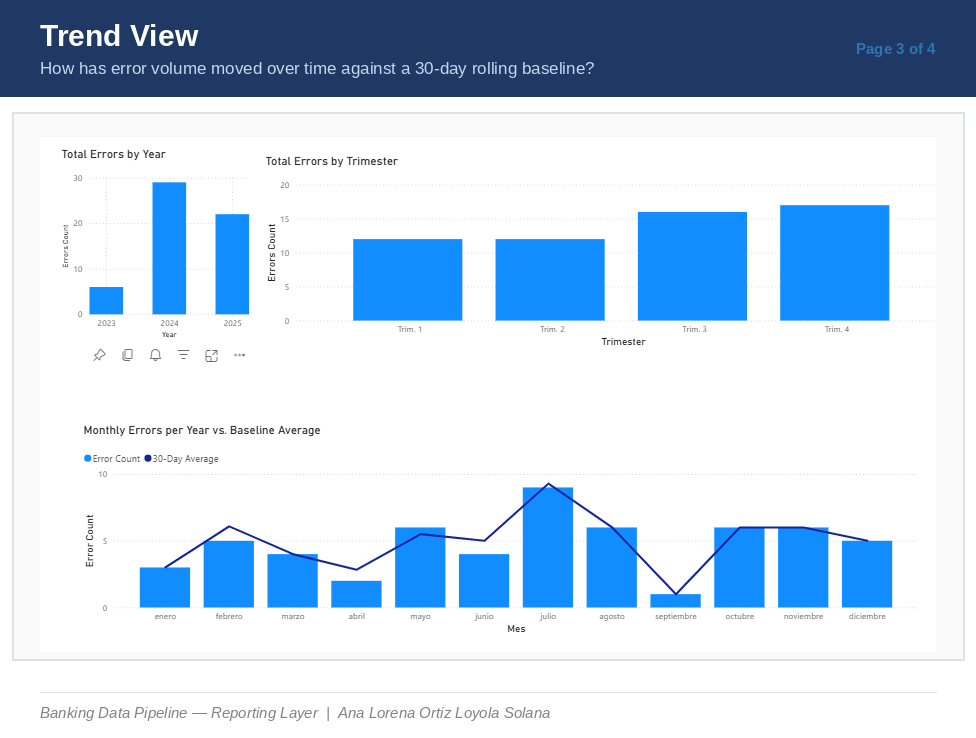

What the dashboard file says about the page in this screenshot:
{"tool":"powerbi","page":{"name":"Página 1","canvas":[1280,720],"ordinal":2},"visuals":[{"type":"lineClusteredColumnComboChart","title":"Total Errors by Year","fields":{"Category":["CombinedDateBaseline.EventDate.Variación.Jerarquía de fechas.Año"],"Y":["Sum(CombinedDateBaseline.DailyErrors)"]},"box":[0,0,278,278],"z":0},{"type":"lineClusteredColumnComboChart","title":"Total Errors by Trimester","fields":{"Category":["CombinedDateBaseline.EventDate.Variación.Jerarquía de fechas.Trimestre"],"Y":["Sum(CombinedDateBaseline.DailyErrors)"]},"box":[291.2,10.2,989.3,281],"z":1000},{"type":"lineStackedColumnComboChart","title":"Monthly Errors per Year vs. Baseline Average","fields":{"Category":["CombinedDateBaseline.EventDate.Variación.Jerarquía de fechas.Mes"],"Y":["Sum(CombinedDateBaseline.DailyErrors)"],"Y2":["Sum(CombinedDateBaseline.30DayBaseline)"]},"box":[30.8,394.8,1202.9,306.9],"z":2000}]}

Visuals, with their boxes on the page's 1280x720 design canvas (x1, y1, x2, y2). These are canvas units, not pixel positions in the 976x738 screenshot, which may show the page scaled, cropped or inside an application window:
"Total Errors by Year" lineClusteredColumnComboChart: [0, 0, 278, 278]
"Total Errors by Trimester" lineClusteredColumnComboChart: [291, 10, 1280, 291]
"Monthly Errors per Year vs. Baseline Average" lineStackedColumnComboChart: [31, 395, 1234, 702]
